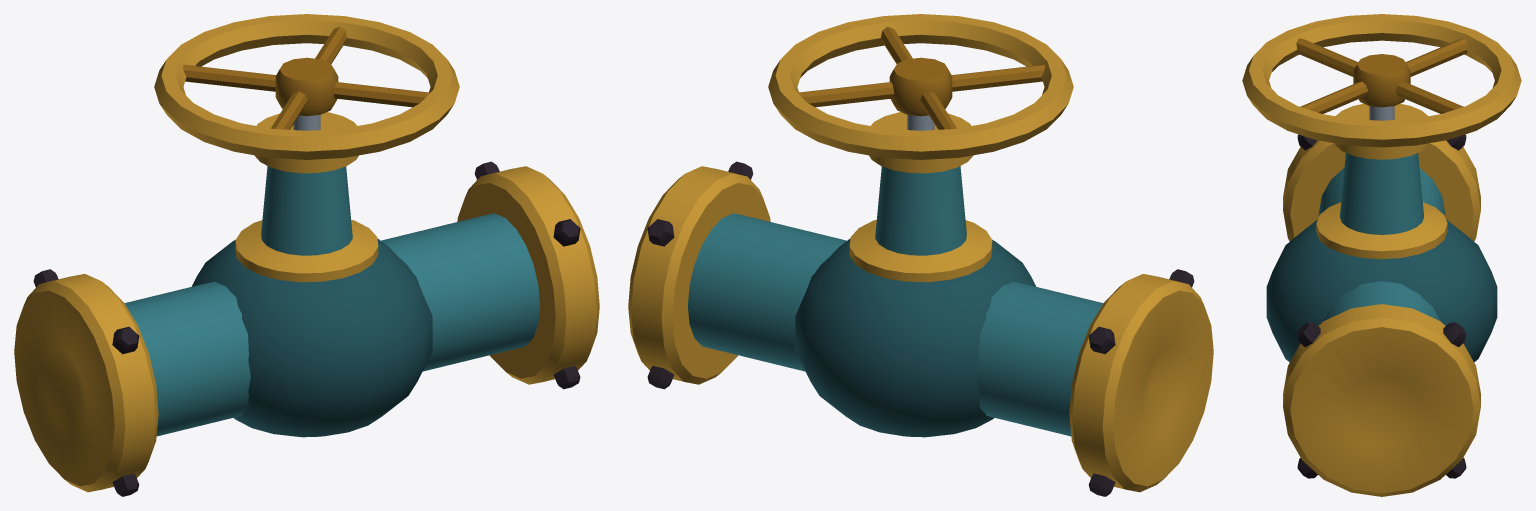
The model's file is Valve_06.glb.
The picture shows the model from 3 angles, left to right: view 1: azimuth 30°, elevation 25°; view 2: azimuth 150°, elevation 25°; view 3: azimuth 270°, elevation 25°; orthographic projection. The views are drawn at different scales.
Parts seen in each view (by area): view 1: Valve_06; view 2: Valve_06; view 3: Valve_06.
Boxes of the visible parts, bbox=[...] form: Valve_06: bbox=[14, 14, 599, 496]; Valve_06: bbox=[628, 14, 1213, 496]; Valve_06: bbox=[1242, 14, 1521, 496].
Size of the model in its own units: 2.87 by 2.02 by 1.56.
